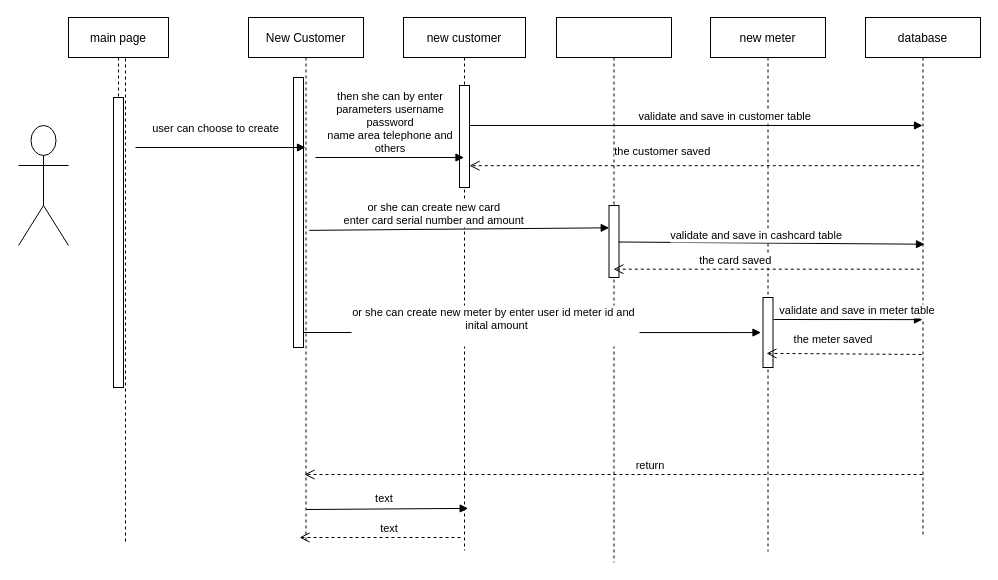
Image size: 998x580. Some labels were removed from this diagram. The centre of each missing label's shape, as x and y in pixels:
"employee" goes at (43,185).
"new card" goes at (614,289).
